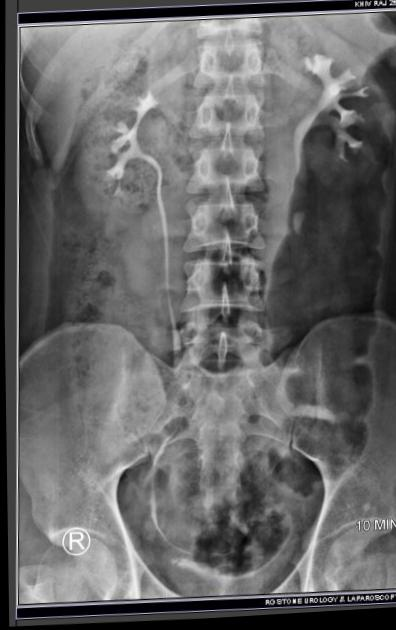left kidney: (283, 17, 391, 202)
right kidney: (62, 51, 172, 226)
vertebrae: (185, 70, 261, 140)
